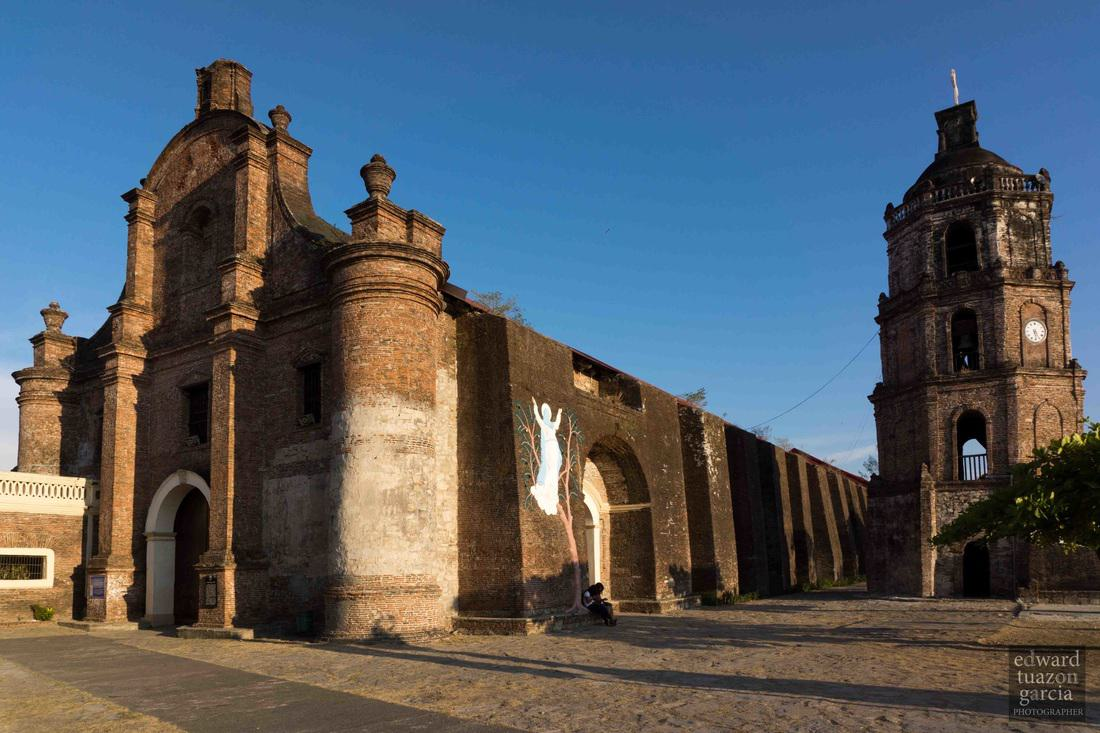Sta. Maria Church: (21, 50, 463, 642)
Unfinished Paint: (252, 406, 465, 577)
